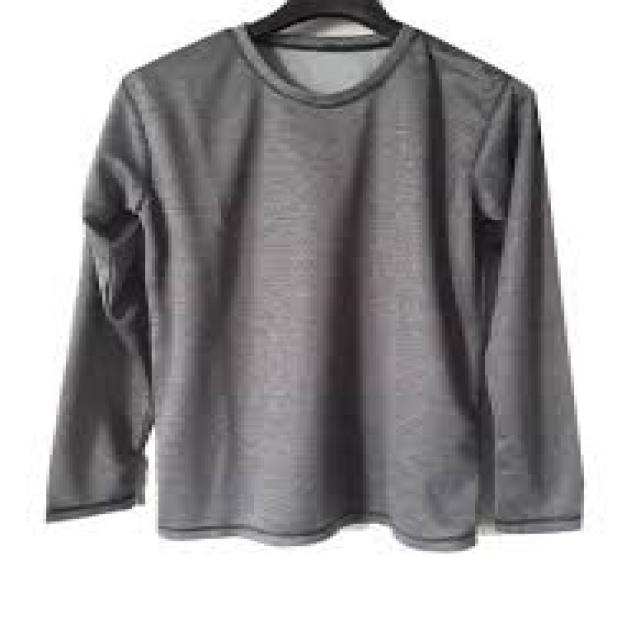plain: (57, 28, 600, 554)
